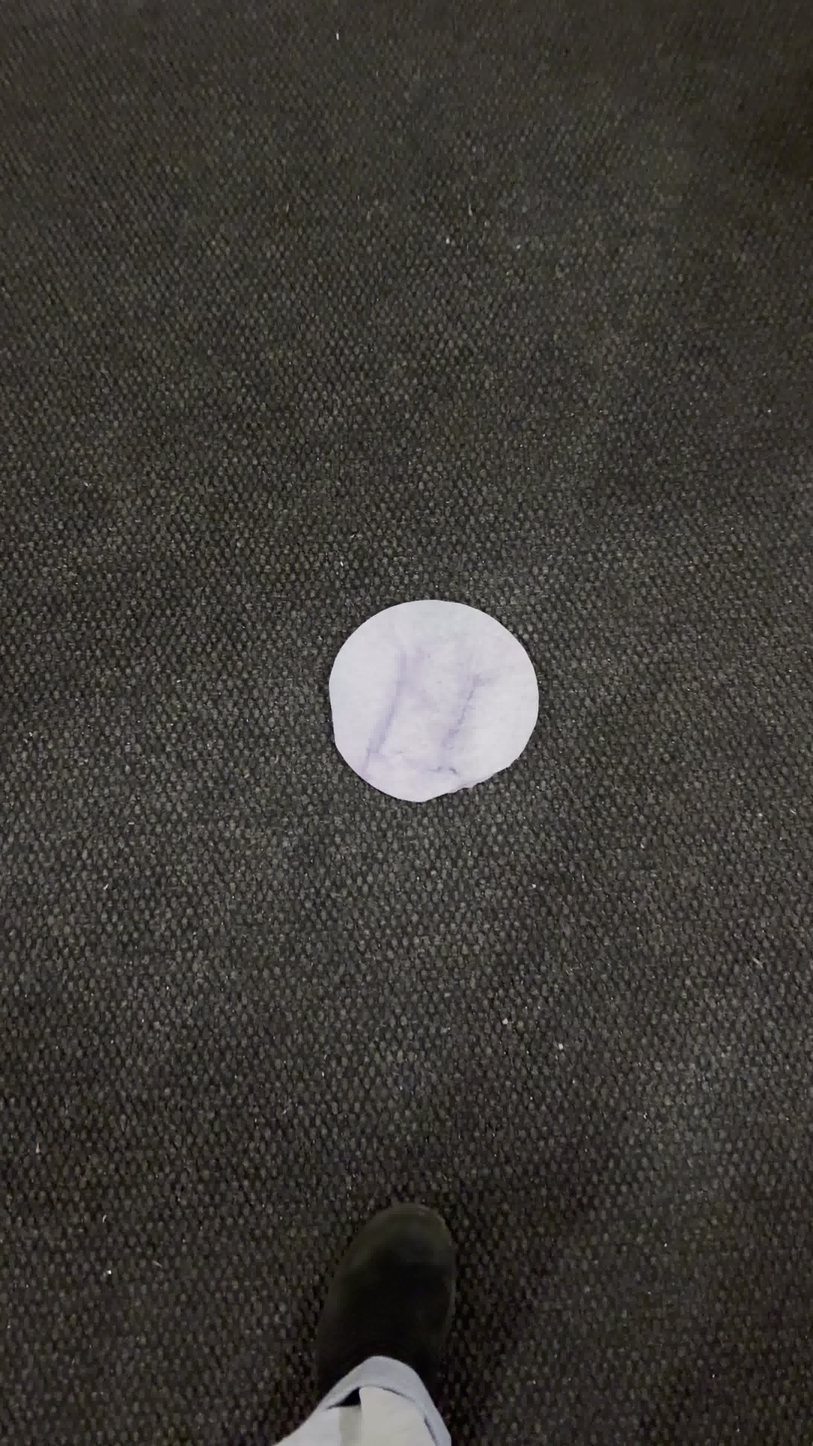Target: (328, 599, 540, 804)
